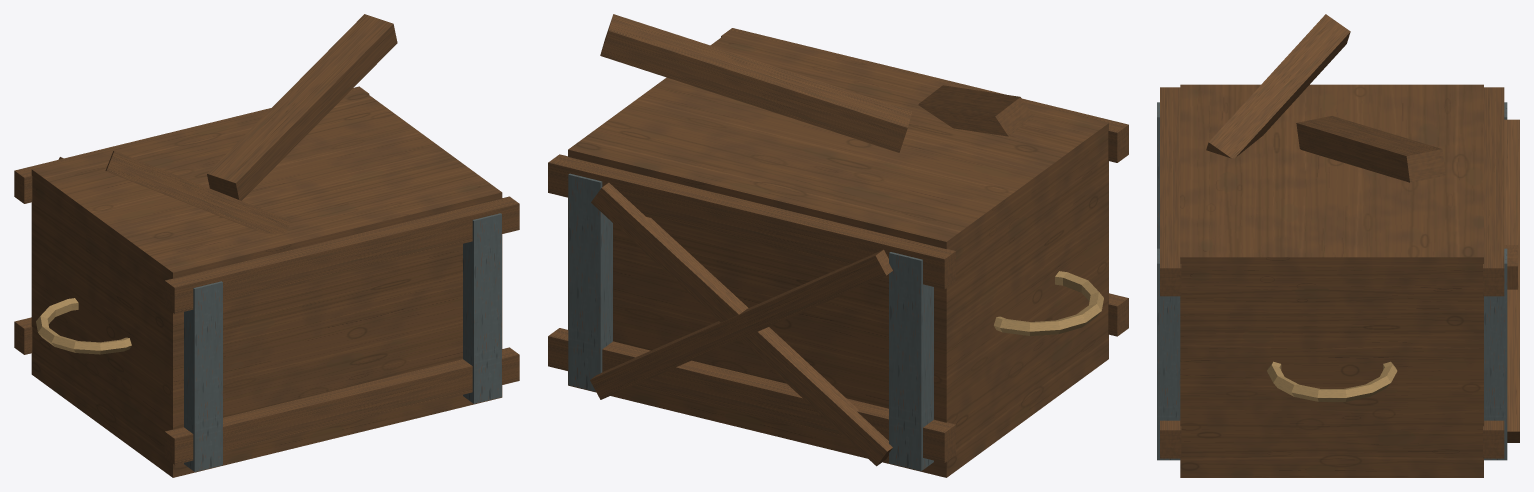
Rendered from pr-004_supply_crate__broken.obj.
3 renders of one model, left to right at view 1: azimuth 30°, elevation 25°; view 2: azimuth 150°, elevation 25°; view 3: azimuth 270°, elevation 25°, orthographic. The views are drawn at different scales.
Parts seen in each view (by area): view 1: pr-004_supply_crate__broken; view 2: pr-004_supply_crate__broken; view 3: pr-004_supply_crate__broken.
Part boxes in pixels (x1,y1,x2,y2): pr-004_supply_crate__broken: (14, 14, 519, 477); pr-004_supply_crate__broken: (548, 14, 1128, 477); pr-004_supply_crate__broken: (1157, 14, 1519, 477).
Bounding box in the file's own units: 1.42 × 0.9091 × 0.9325.
Materials: 3 (3 with a texture image).
